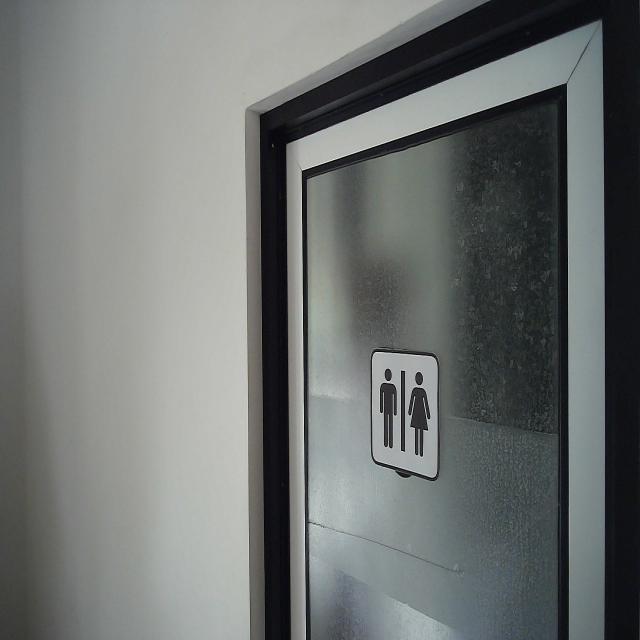restroom: (368, 344, 441, 484)
